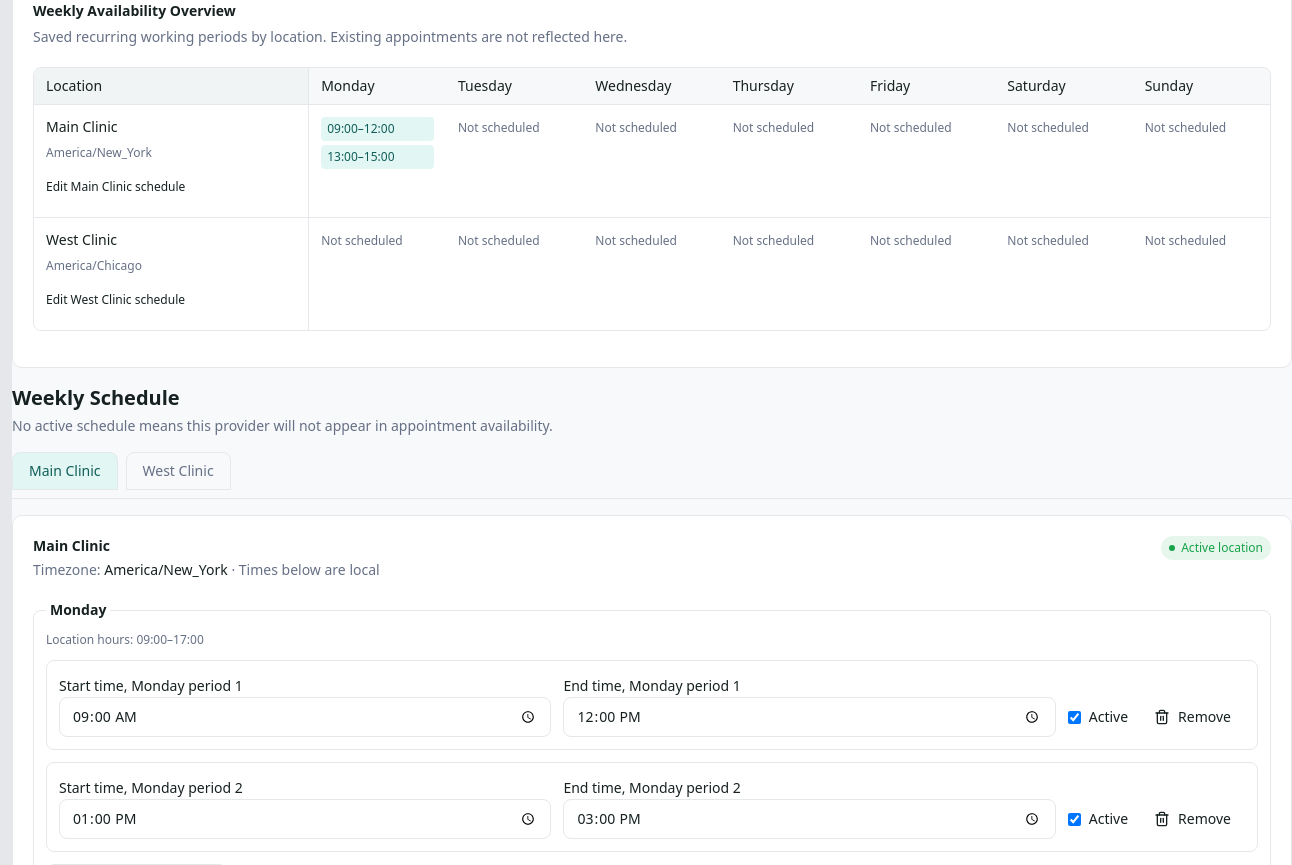
it: ProviderSchedule › preserves the selected draft after a failed save
The width and height of the screenshot is (1292, 865).
Check: the tab "Main Clinic" is shown, box [12, 452, 118, 490]
Replace the text in the time field labelled "End time, Monday period 2" with "16:30" at (810, 819), box [563, 799, 1056, 839]
(page scrolled)
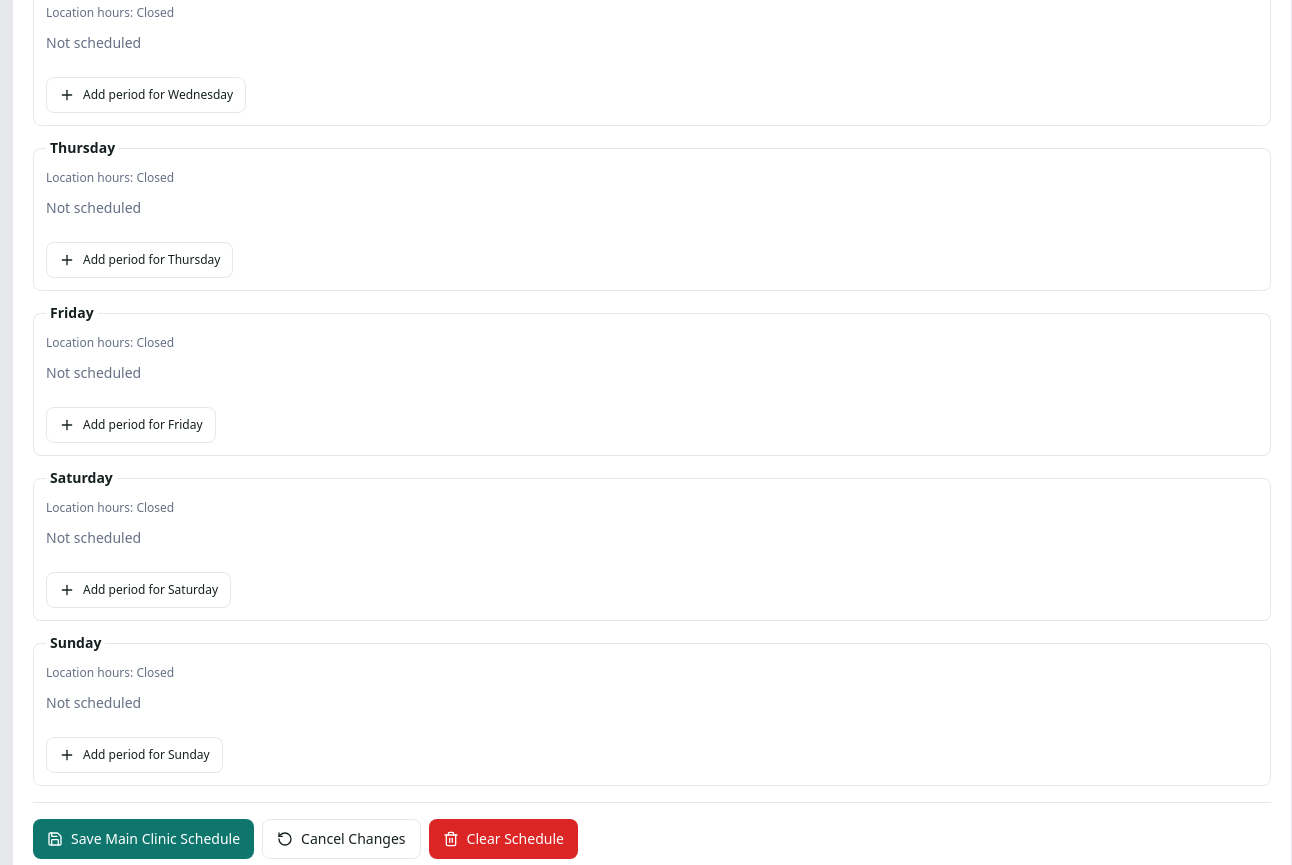
Click the button "Save Main Clinic Schedule" at (144, 839), box [33, 819, 254, 859]
(page scrolled)
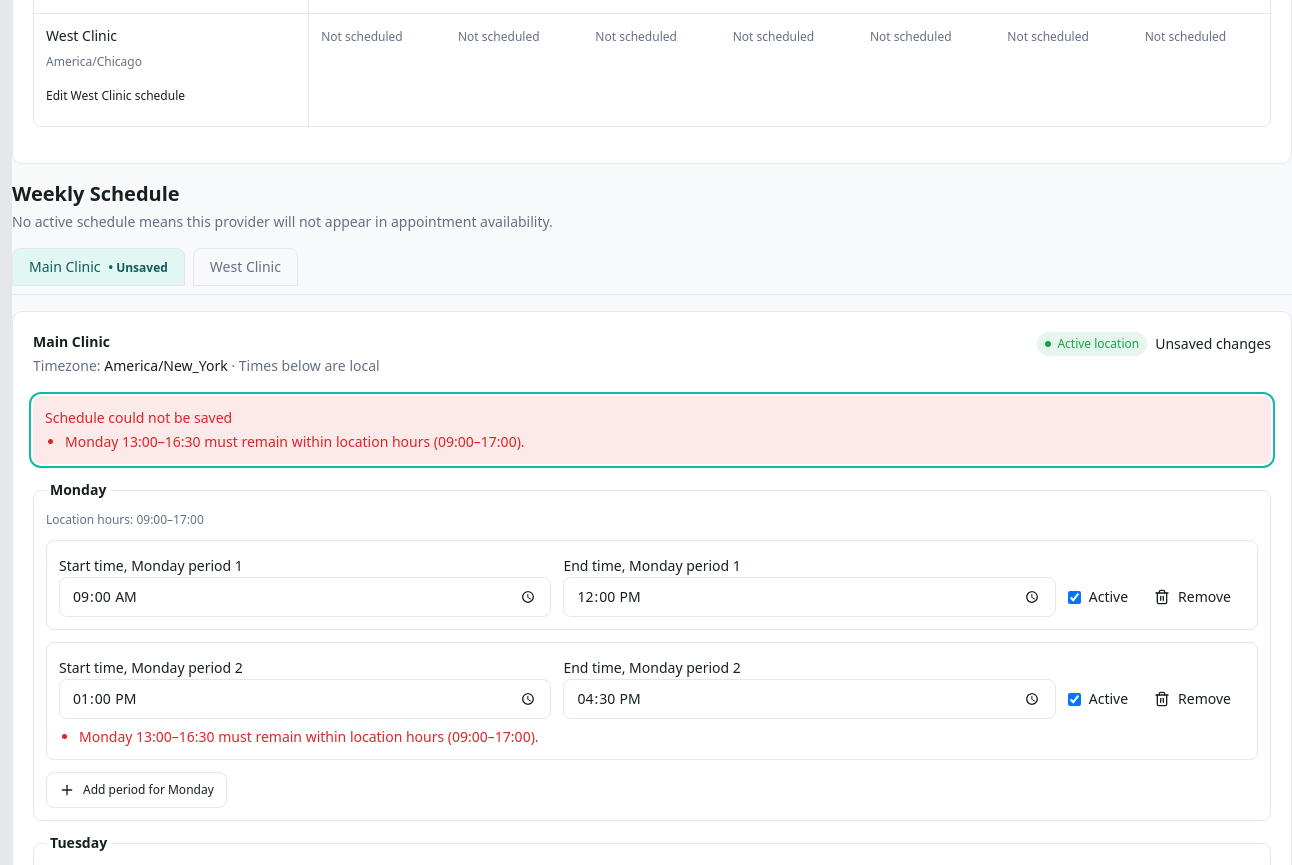
Check: the tab with aria-label "Main Clinic, Unsaved changes" is shown, box [12, 248, 185, 286]
Check: the message is shown, box [33, 396, 1271, 464]
